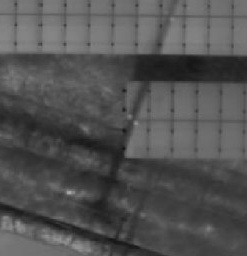solar: (13, 11, 43, 54), (39, 11, 69, 54), (62, 11, 92, 54), (85, 11, 115, 54), (108, 12, 138, 55), (133, 12, 163, 55), (157, 12, 187, 55), (180, 12, 210, 55), (206, 12, 236, 55), (122, 77, 152, 120), (145, 78, 175, 121), (170, 78, 200, 121), (193, 79, 223, 122), (217, 79, 247, 122), (121, 118, 151, 161), (146, 118, 176, 161), (169, 118, 199, 161), (194, 119, 224, 162), (217, 119, 247, 162)
